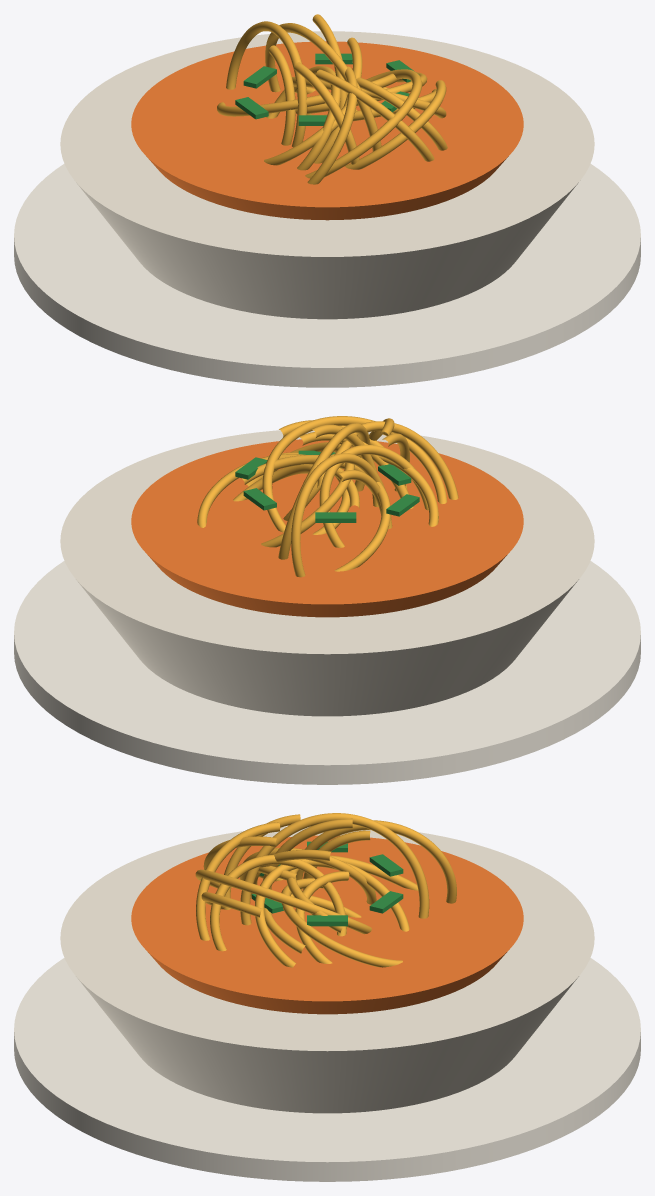
File: pasta.glb
3 views of the same model, one above another, from view 1: azimuth 30°, elevation 25°; view 2: azimuth 150°, elevation 25°; view 3: azimuth 270°, elevation 25° (orthographic).
Size of the model in its own units: 2.3 by 0.9357 by 2.3.
